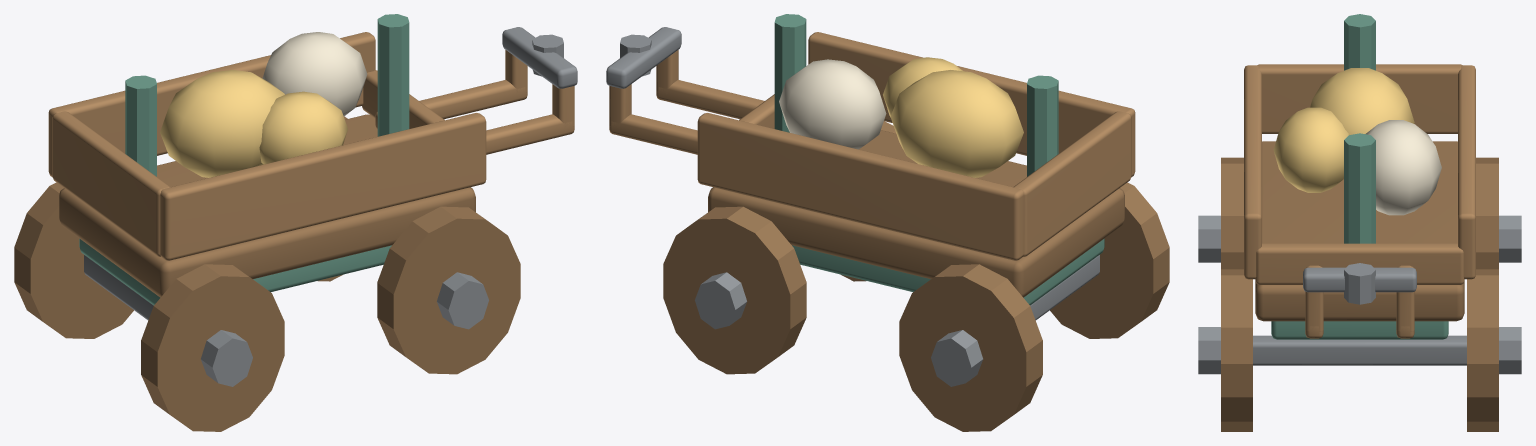
The model's file is cart.glb.
The picture shows the model from 3 angles, left to right: view 1: azimuth 30°, elevation 25°; view 2: azimuth 150°, elevation 25°; view 3: azimuth 270°, elevation 25°; orthographic projection. The views are drawn at different scales.
Visible parts, largest first — view 1: cart_root; view 2: cart_root; view 3: cart_root.
Boxes of the visible parts, bbox=[...] form: cart_root: bbox=[14, 14, 577, 431]; cart_root: bbox=[606, 14, 1169, 431]; cart_root: bbox=[1198, 14, 1521, 431].
Bounding box in the file's own units: 3 × 1.8 × 1.82.
